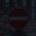No entry: (6, 5, 31, 31)
